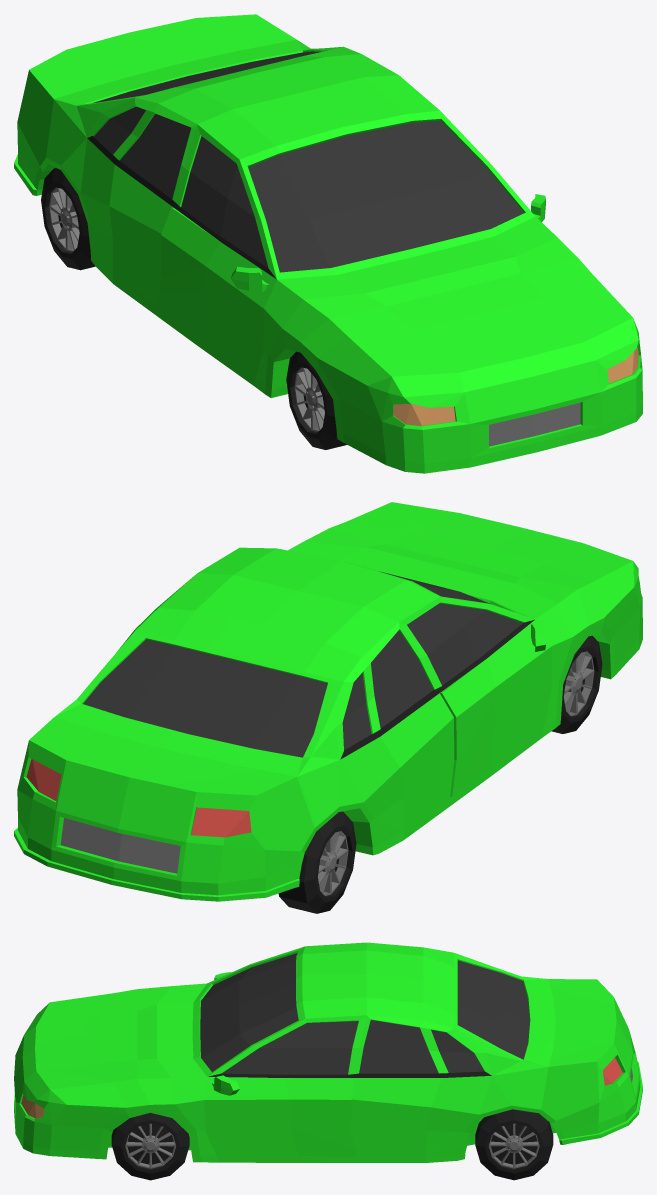
The model's file is green.glb.
3 renders of one model, top to bottom at view 1: azimuth 30°, elevation 25°; view 2: azimuth 150°, elevation 25°; view 3: azimuth 270°, elevation 25°, orthographic. The views are drawn at different scales.
Visible parts, largest first — view 1: NormalCar1, NormalCar1_BackWheels, NormalCar1_FrontRightWheel; view 2: NormalCar1, NormalCar1_BackWheels, NormalCar1_FrontRightWheel; view 3: NormalCar1, NormalCar1_BackWheels, NormalCar1_FrontLeftWheel.
Boxes of the visible parts, <box> form: NormalCar1: <box>14,14,642,473</box>; NormalCar1_BackWheels: <box>41,168,95,270</box>; NormalCar1_FrontRightWheel: <box>286,351,346,449</box>; NormalCar1: <box>14,502,642,901</box>; NormalCar1_BackWheels: <box>278,811,356,913</box>; NormalCar1_FrontRightWheel: <box>551,635,602,733</box>; NormalCar1: <box>14,942,642,1162</box>; NormalCar1_BackWheels: <box>475,1109,553,1180</box>; NormalCar1_FrontLeftWheel: <box>111,1112,189,1180</box>.
Size of the model in its own units: 1.81 by 1.18 by 4.22.
